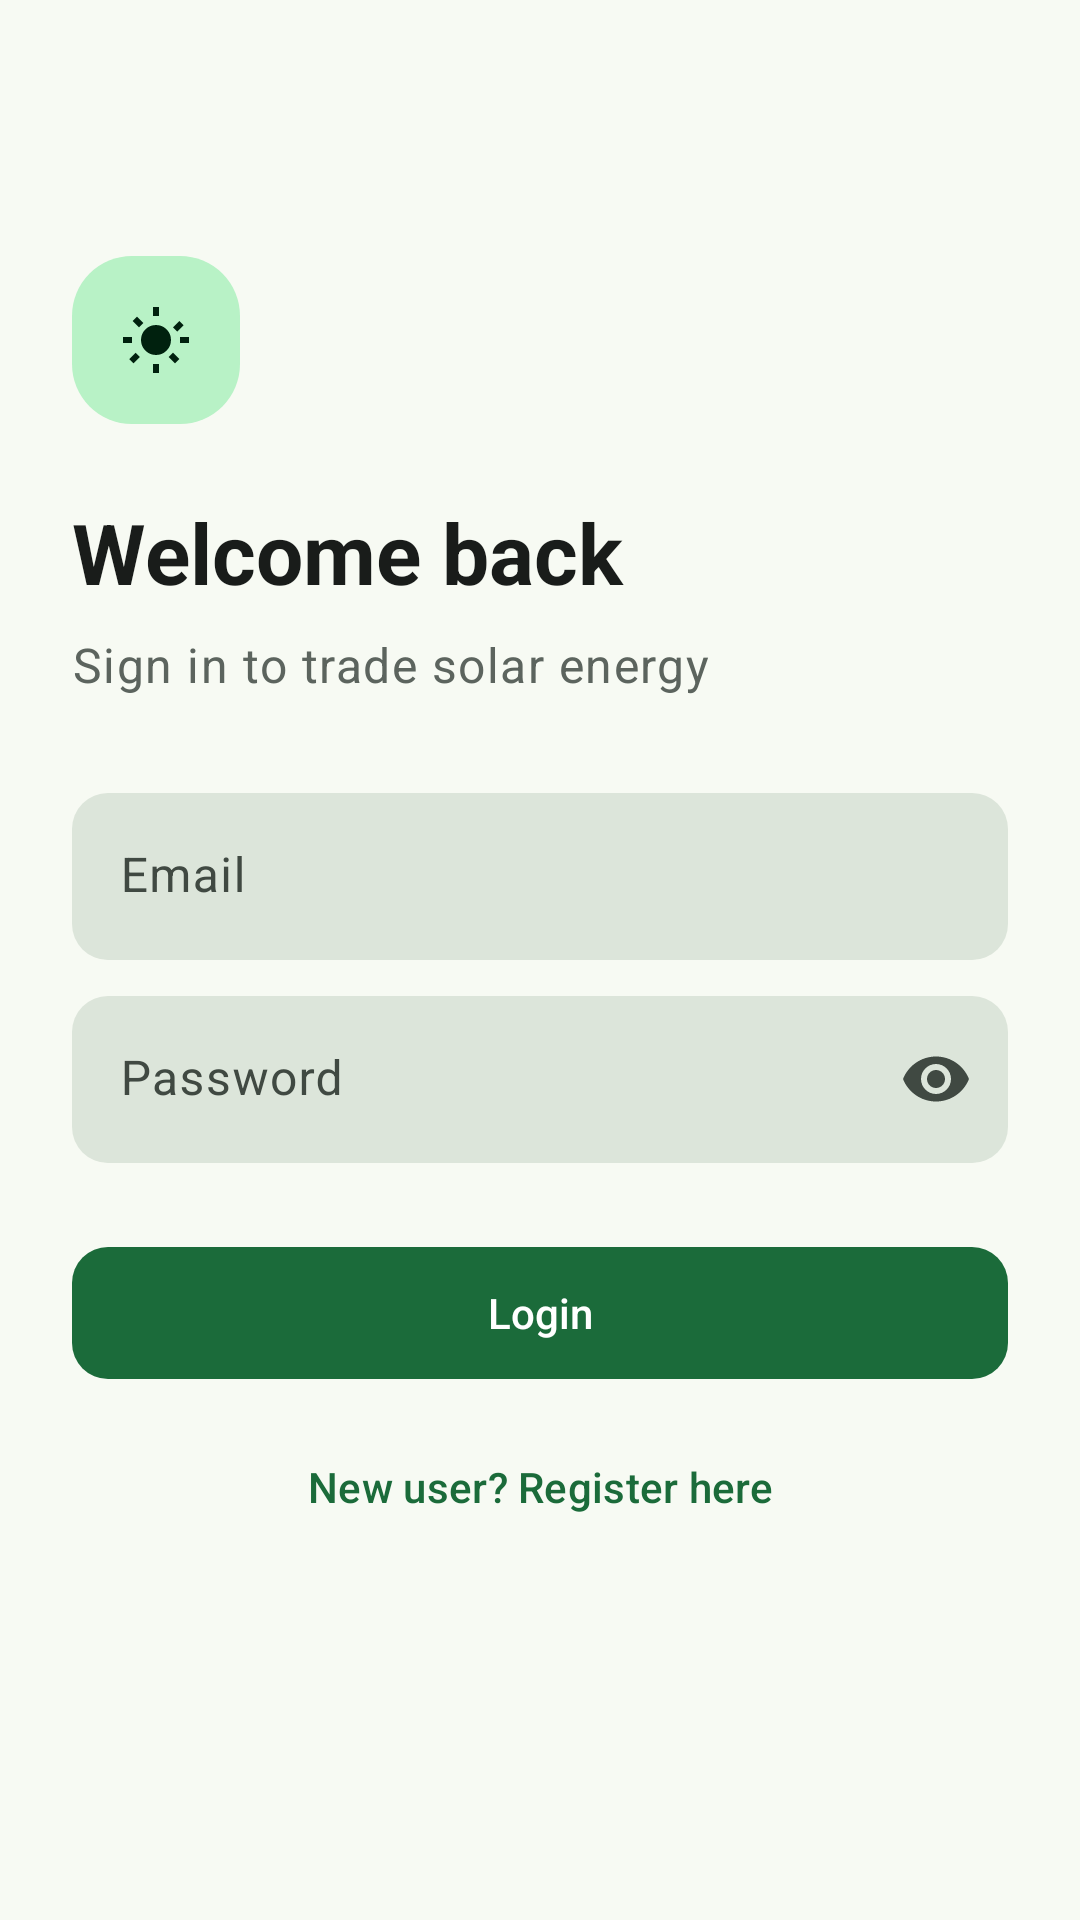

Named icons in this screenshot (1080px×1920px) and their bounding boxes, bbox=[x1, y1, x2, y2]:
brand sun: bbox=[123, 307, 189, 373]
